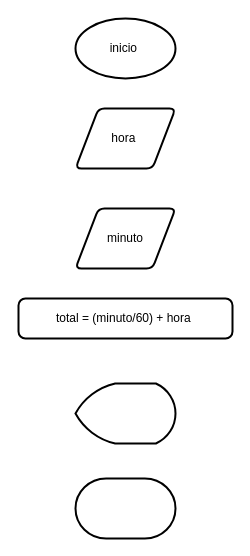
This 250x556 diagram has some shape labels left out. The centre of each missing label's shape, as x and y in pixels:
"fim" belongs at point (125, 508).
"total" belongs at point (125, 413).
